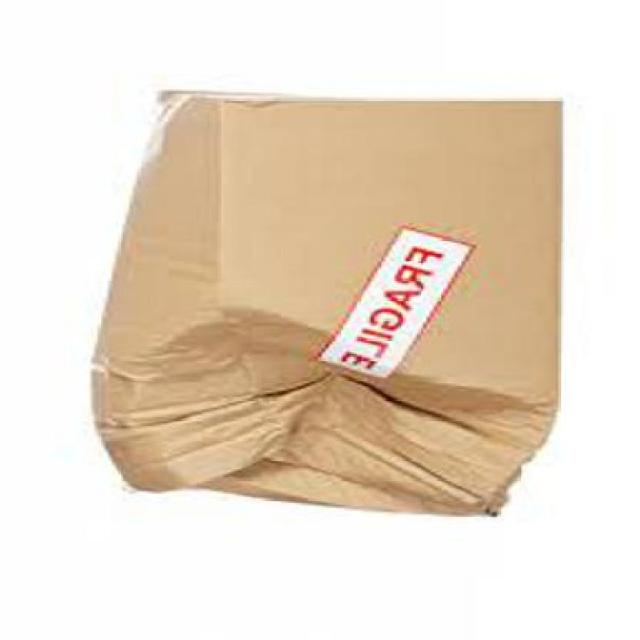defect: (89, 88, 568, 526)
